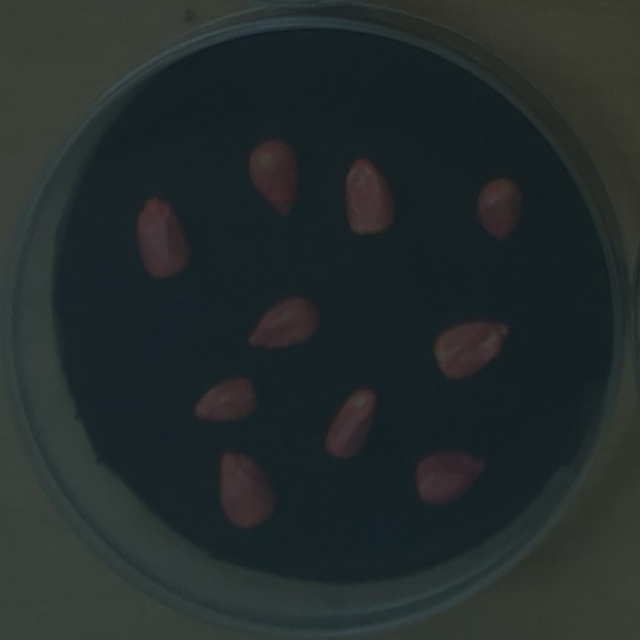Zea mays: (211, 442, 284, 534), (427, 313, 515, 388), (129, 191, 198, 286), (239, 132, 306, 226), (407, 442, 493, 514), (239, 287, 327, 357), (317, 381, 385, 469), (337, 153, 404, 242), (185, 366, 264, 429), (471, 170, 531, 249)
